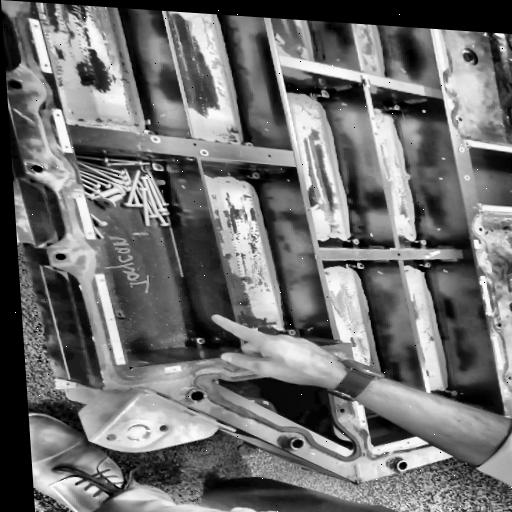b_casing: (0, 0, 512, 502)
